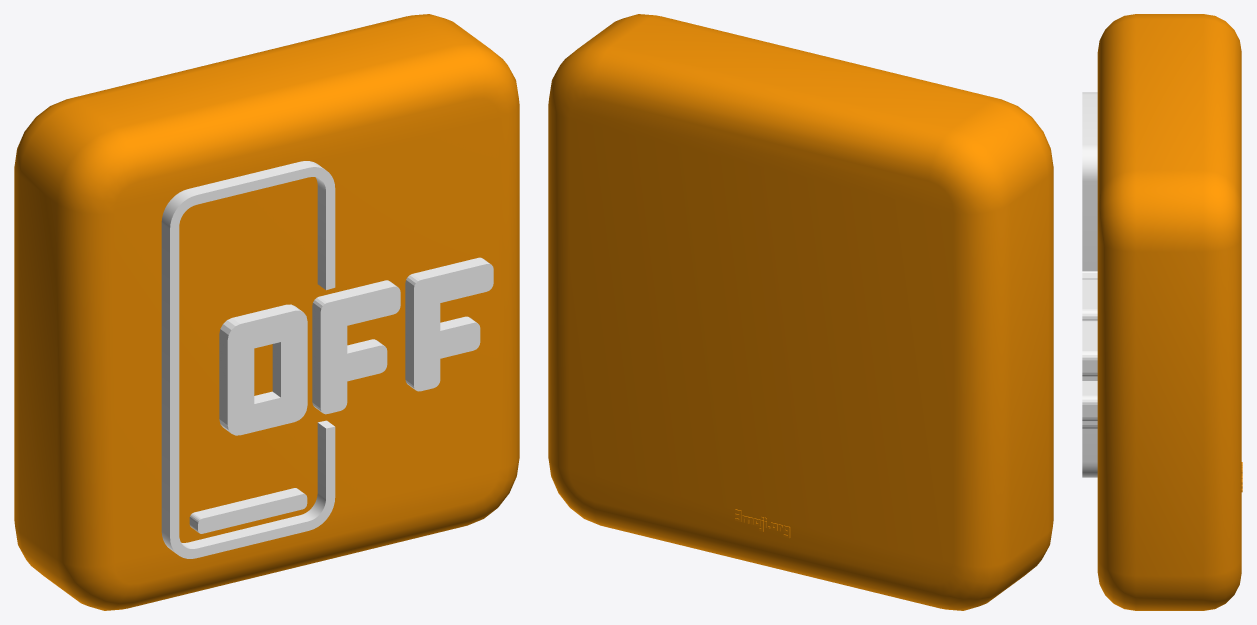
The model's file is mobile_phone_off.gltf.
3 views of the same model, side by side, from view 1: azimuth 30°, elevation 25°; view 2: azimuth 150°, elevation 25°; view 3: azimuth 270°, elevation 25° (orthographic). The views are drawn at different scales.
Visible parts, largest first — view 1: Cube.6434; view 2: Cube.6434; view 3: Cube.6434.
Part boxes in pixels (box(x1,y1,x2,y2)): Cube.6434: box(14, 14, 519, 610); Cube.6434: box(548, 14, 1053, 610); Cube.6434: box(1082, 14, 1242, 610).
Size of the model in its own units: 2.2 by 2.2 by 0.7337.
1 material, 1 textured.
